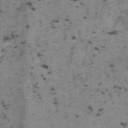oxide scale of temperature system: (0, 0, 128, 118), (0, 99, 11, 122), (120, 121, 128, 128)
